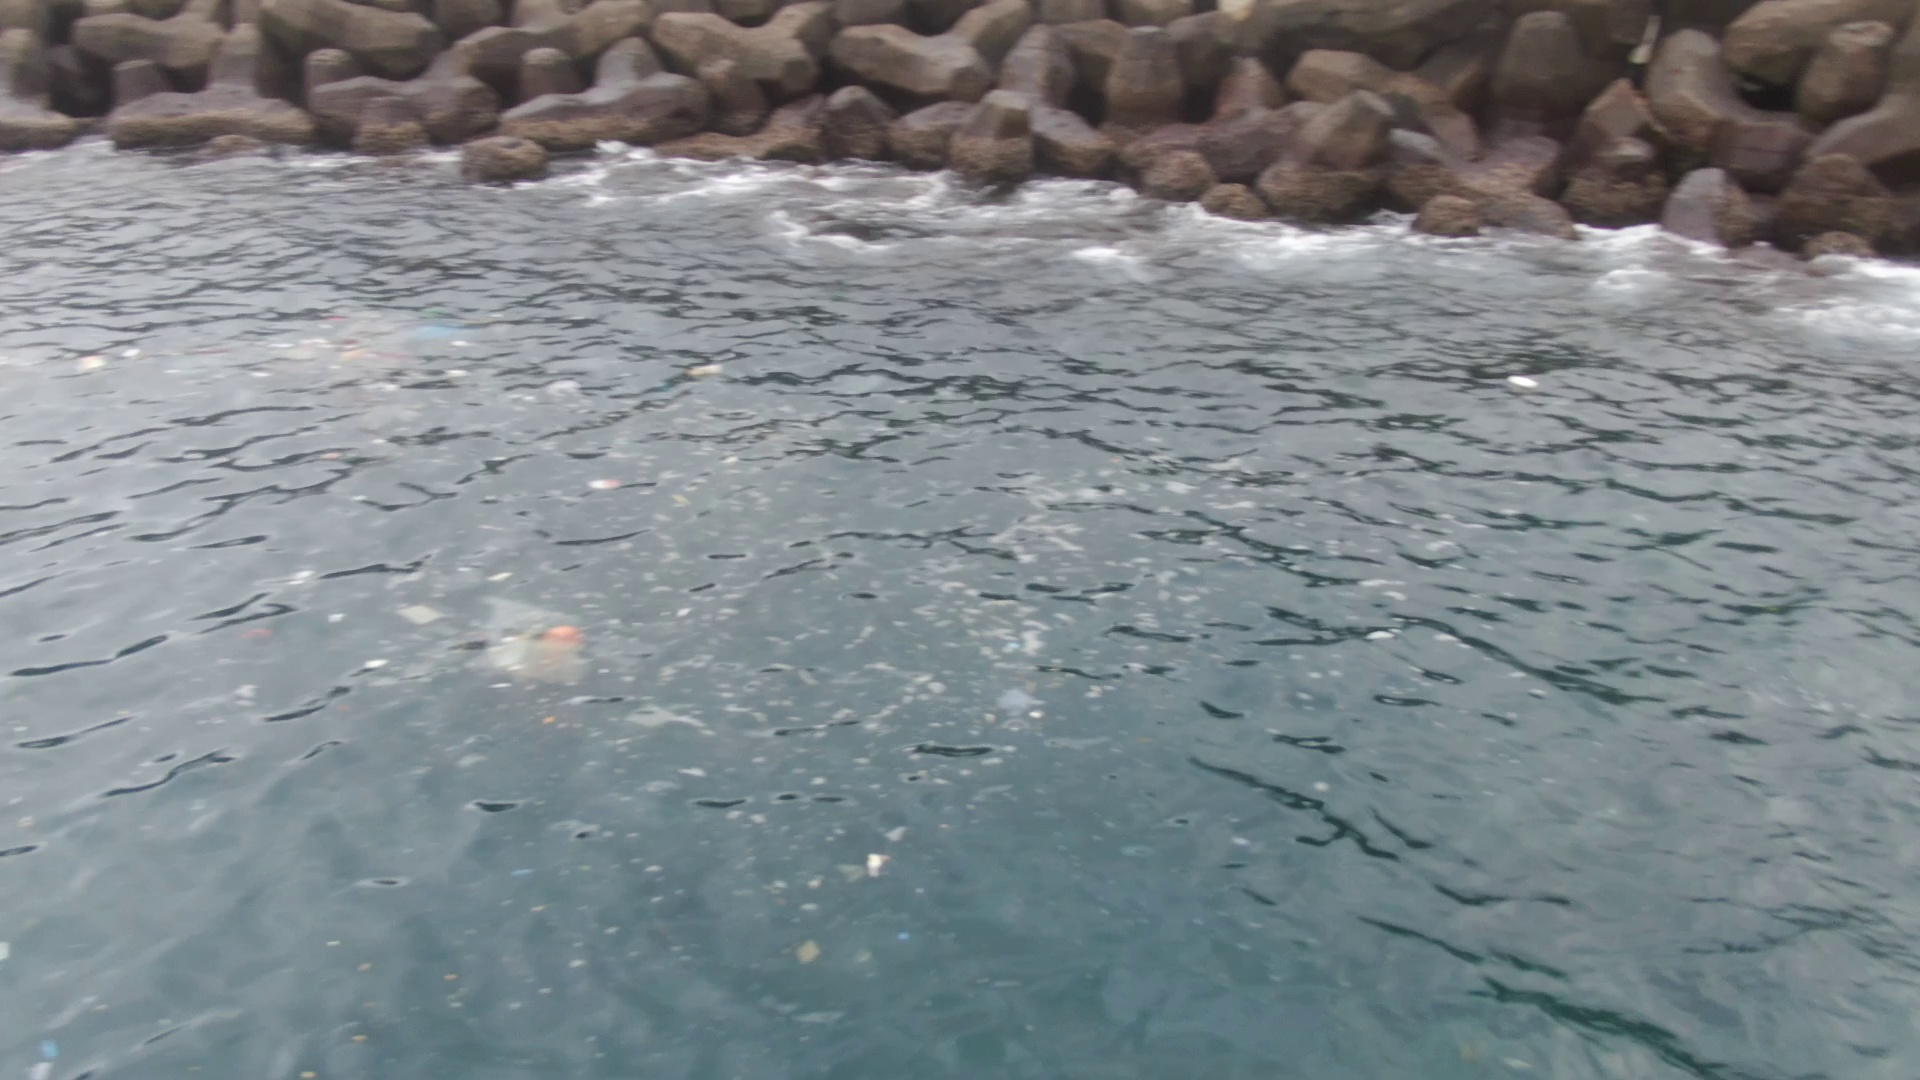garbage: (531, 618, 603, 676)
